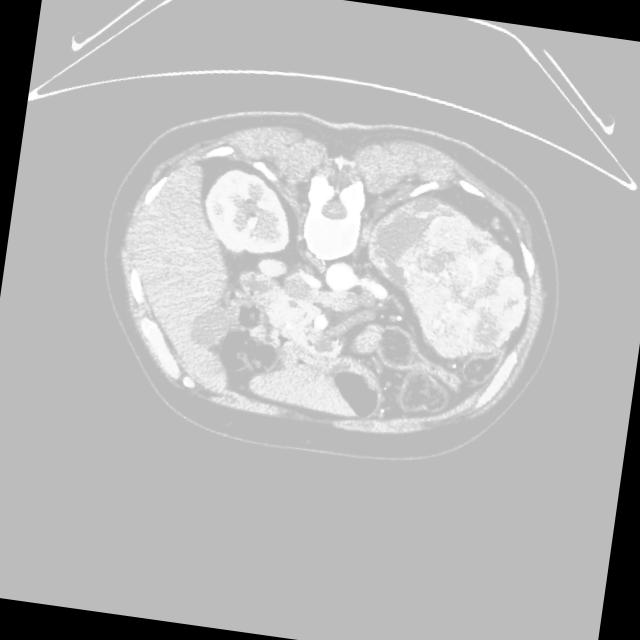TUMOR: (137, 139, 505, 361)
